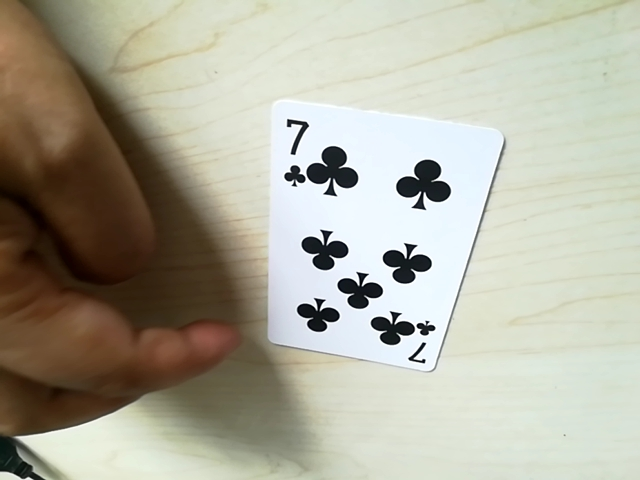mh 7: (275, 106, 315, 186), (398, 333, 442, 370)
